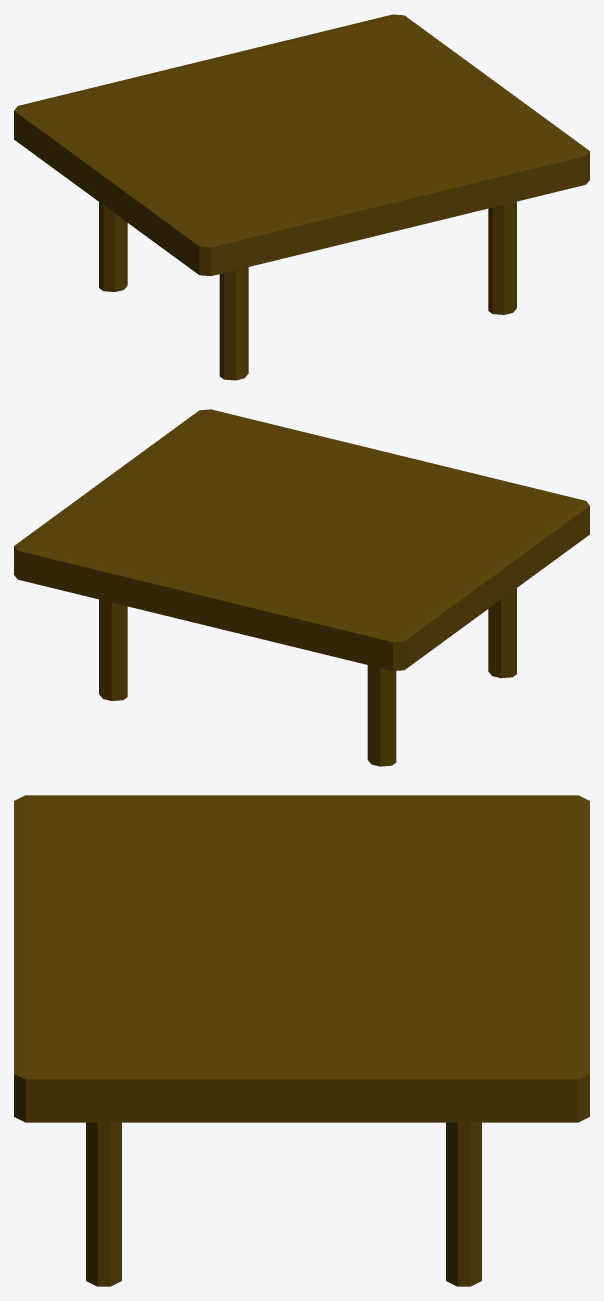
Rendered from table.fbx.
The picture shows the model from 3 angles, top to bottom: view 1: azimuth 30°, elevation 25°; view 2: azimuth 150°, elevation 25°; view 3: azimuth 270°, elevation 25°; orthographic projection. The views are drawn at different scales.
Parts seen in each view (by area): view 1: Cube; view 2: Cube; view 3: Cube.
Part boxes in pixels (<box>): Cube: <box>14,14,589,380</box>; Cube: <box>14,409,589,766</box>; Cube: <box>14,795,589,1286</box>.
Bounding box in the file's own units: 768 × 308 × 658.
